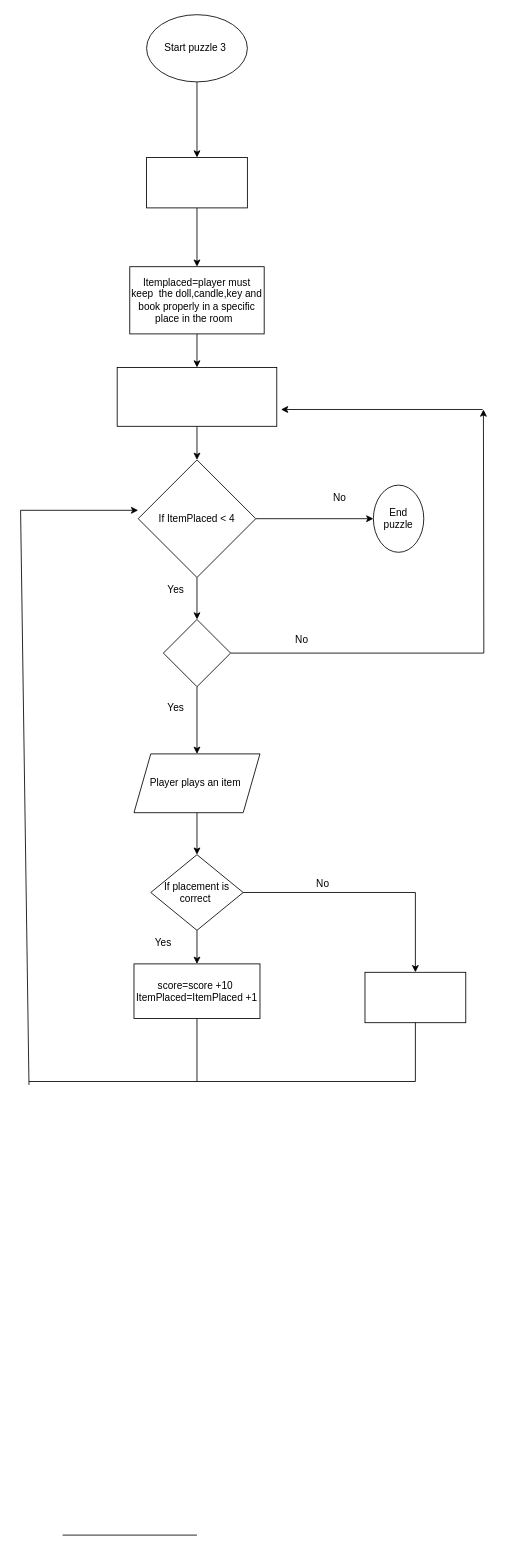
The diagram is 506 pixels wide and 1551 high, and some of its shapes have lost their labels. The shapes that lost their labels are listed below. From the top down, each one's centre as x and y in pixels, then its label:
point 196,182: Score=total player point
point 196,396: Intialize score=0 ItemPlaced=0
point 197,653: if score > 0
point 415,997: Score=score -5
